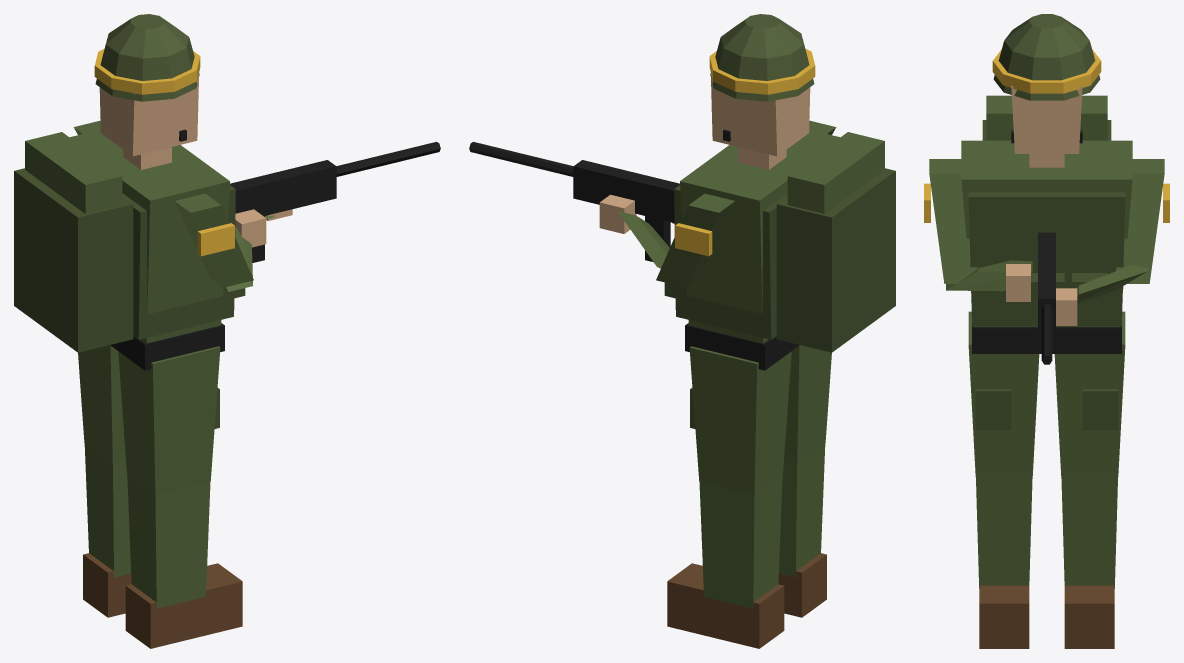
The model's file is soldier.glb.
3 views of the same model, side by side, from view 1: azimuth 30°, elevation 25°; view 2: azimuth 150°, elevation 25°; view 3: azimuth 270°, elevation 25° (orthographic).
Visible parts, largest first — view 1: Soldier, TeamColor; view 2: Soldier, TeamColor; view 3: Soldier, TeamColor.
Boxes of the visible parts, x1,y1,x2,y2 form: Soldier: (14,14,440,648); TeamColor: (94,49,234,256); Soldier: (469,14,895,648); TeamColor: (675,49,815,256); Soldier: (929,14,1164,648); TeamColor: (924,49,1169,222).
Bounding box in the file's own units: 1.27 × 1.85 × 0.69.
